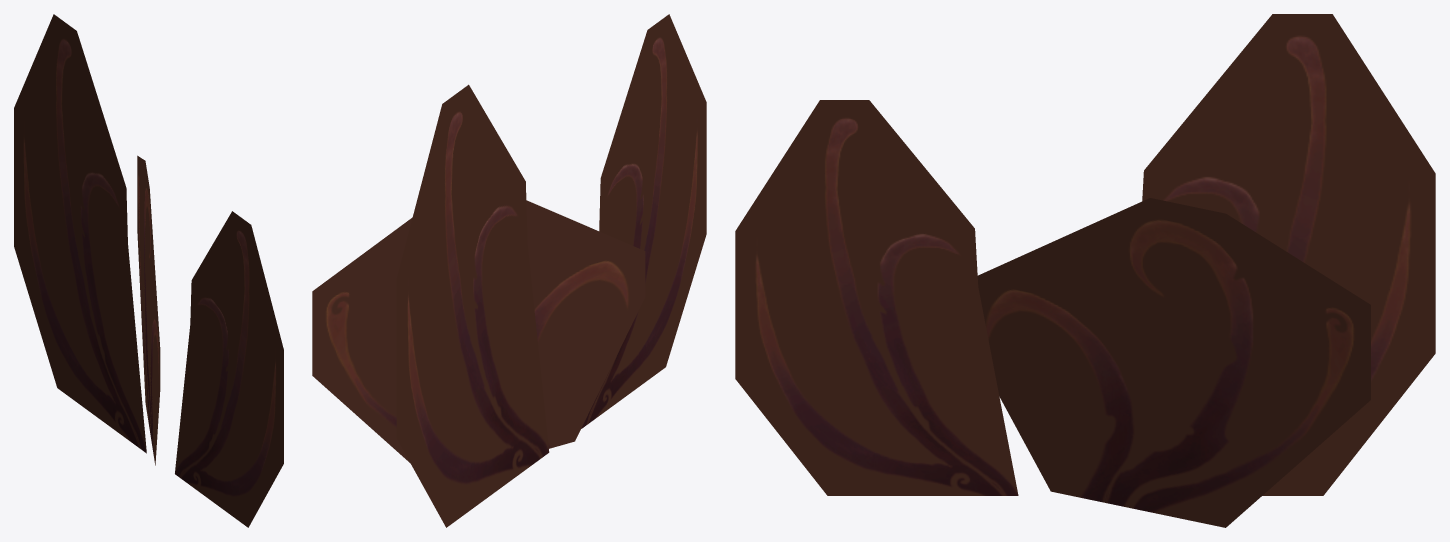
The model's file is plant11.fbx.
The picture shows the model from 3 angles, left to right: view 1: azimuth 30°, elevation 25°; view 2: azimuth 150°, elevation 25°; view 3: azimuth 270°, elevation 25°; orthographic projection. The views are drawn at different scales.
Parts seen in each view (by area): view 1: plant11; view 2: plant11; view 3: plant11.
Part boxes in pixels (bbox=[...]): plant11: bbox=[14, 14, 283, 527]; plant11: bbox=[312, 14, 706, 527]; plant11: bbox=[735, 14, 1435, 527].
Size of the model in its own units: 48.28 by 128 by 169.
